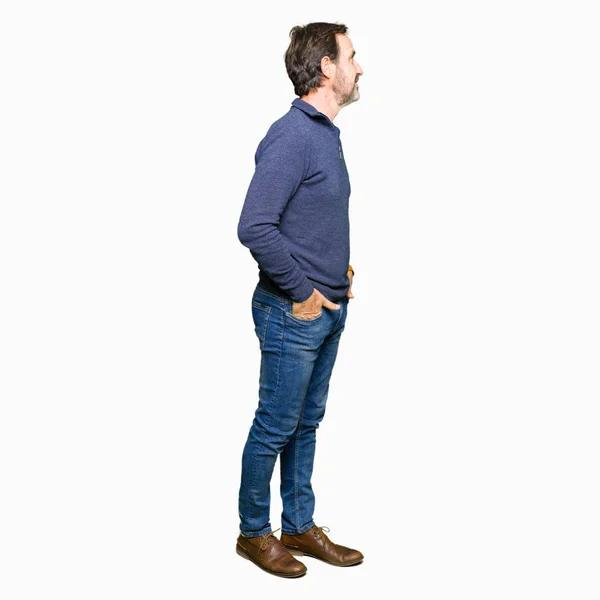sweater: (233, 98, 353, 306)
trousers: (236, 282, 344, 533)
